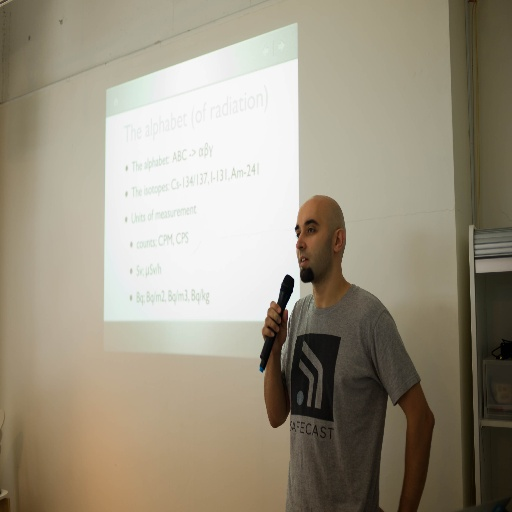hand: (261, 299, 287, 351)
